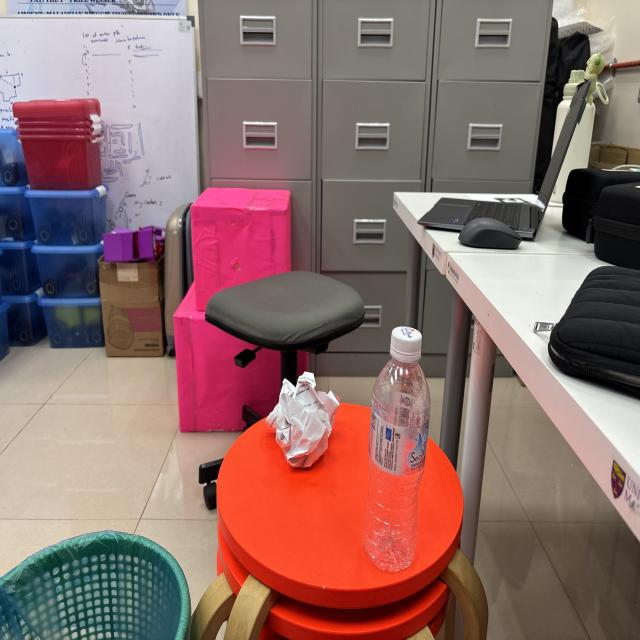crumpled_paper: (263, 368, 347, 478)
plastic_bottle: (358, 316, 432, 580)
